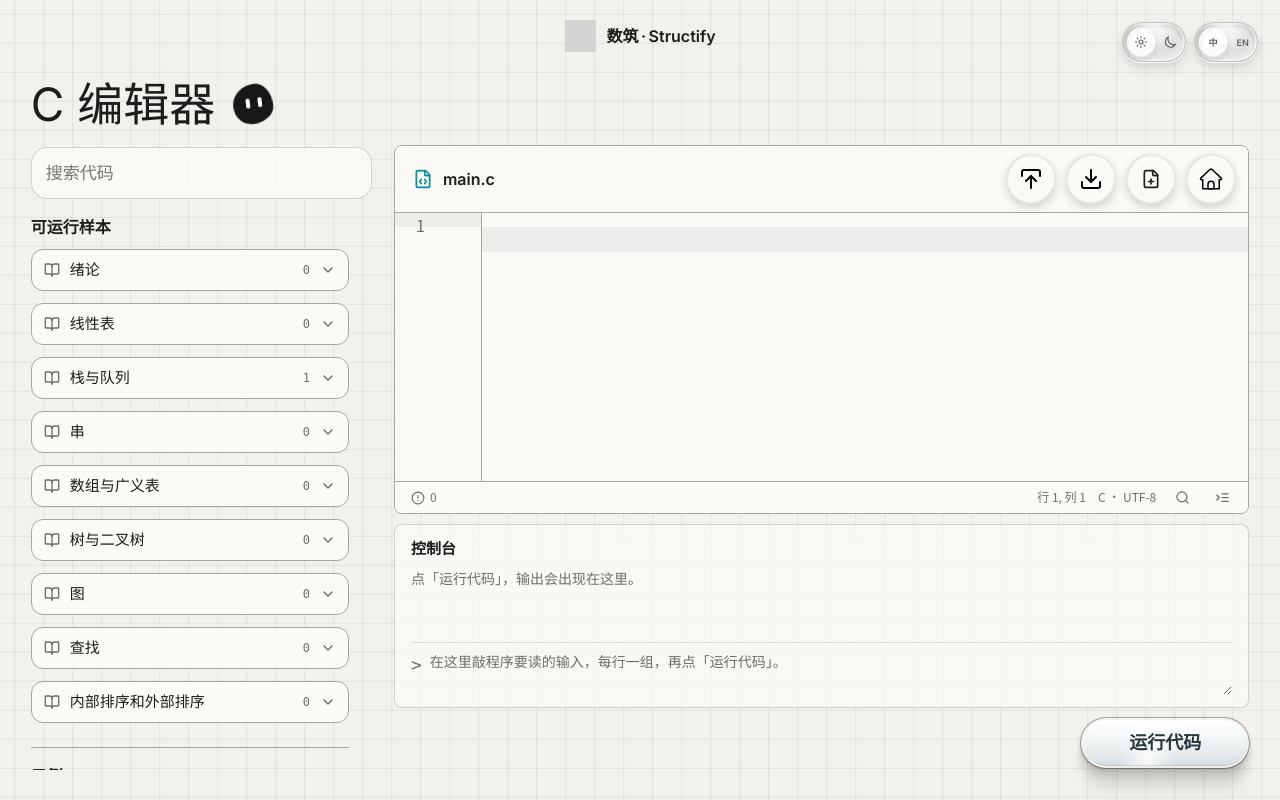
Scenario: code library page › loads a manually selected runnable sample and runs it
Click the button "栈与队列 1".
click(100, 378)  # box [31,357,349,399]
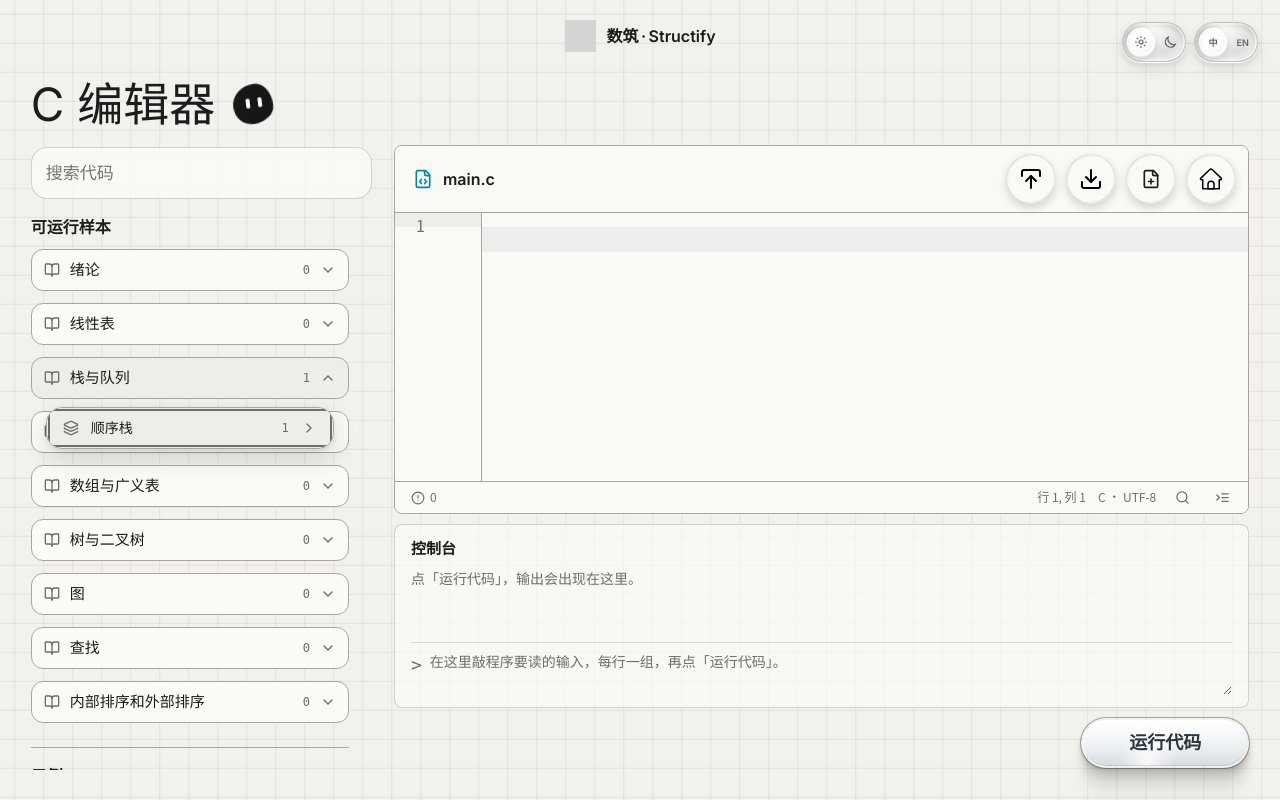
Click the menu item with class "code-menu__item".
click(112, 428)  # box [47,408,333,448]
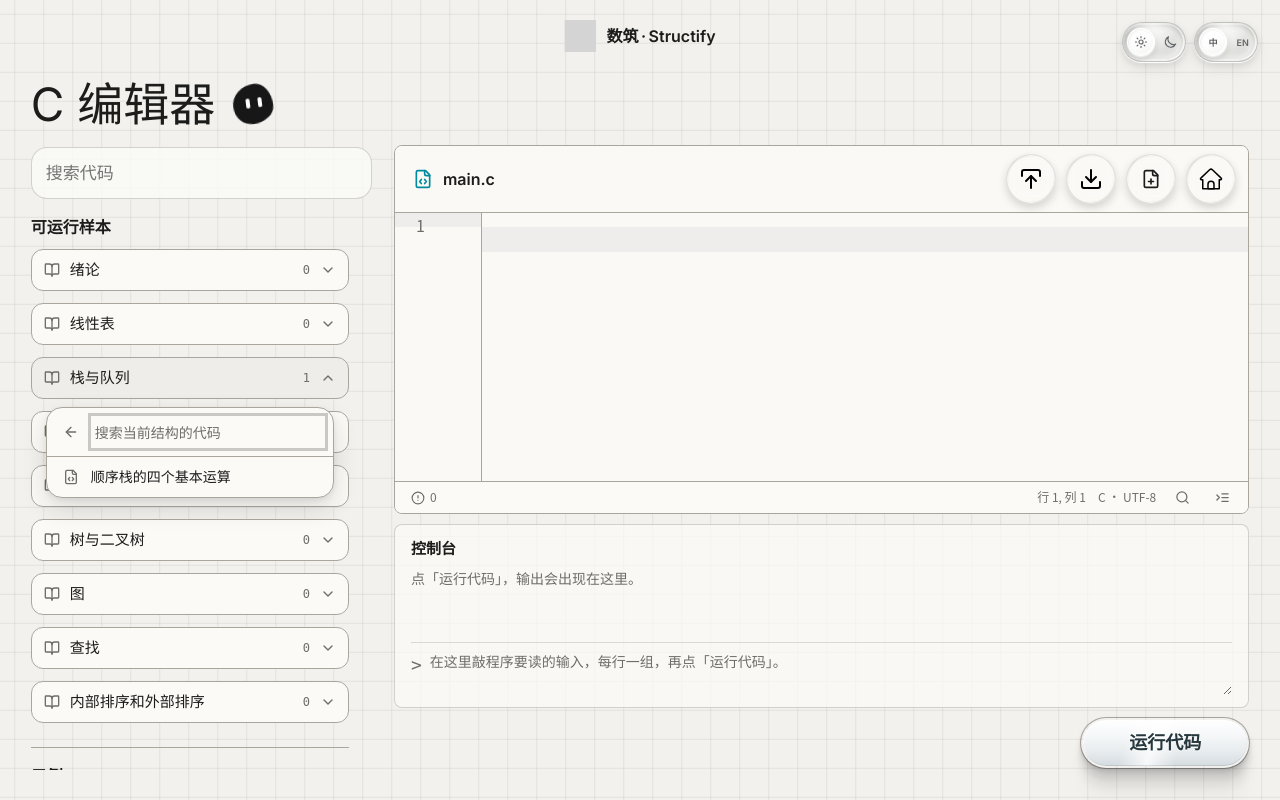
Click the menu item "顺序栈的四个基本运算".
click(190, 477)  # box [47,457,333,497]
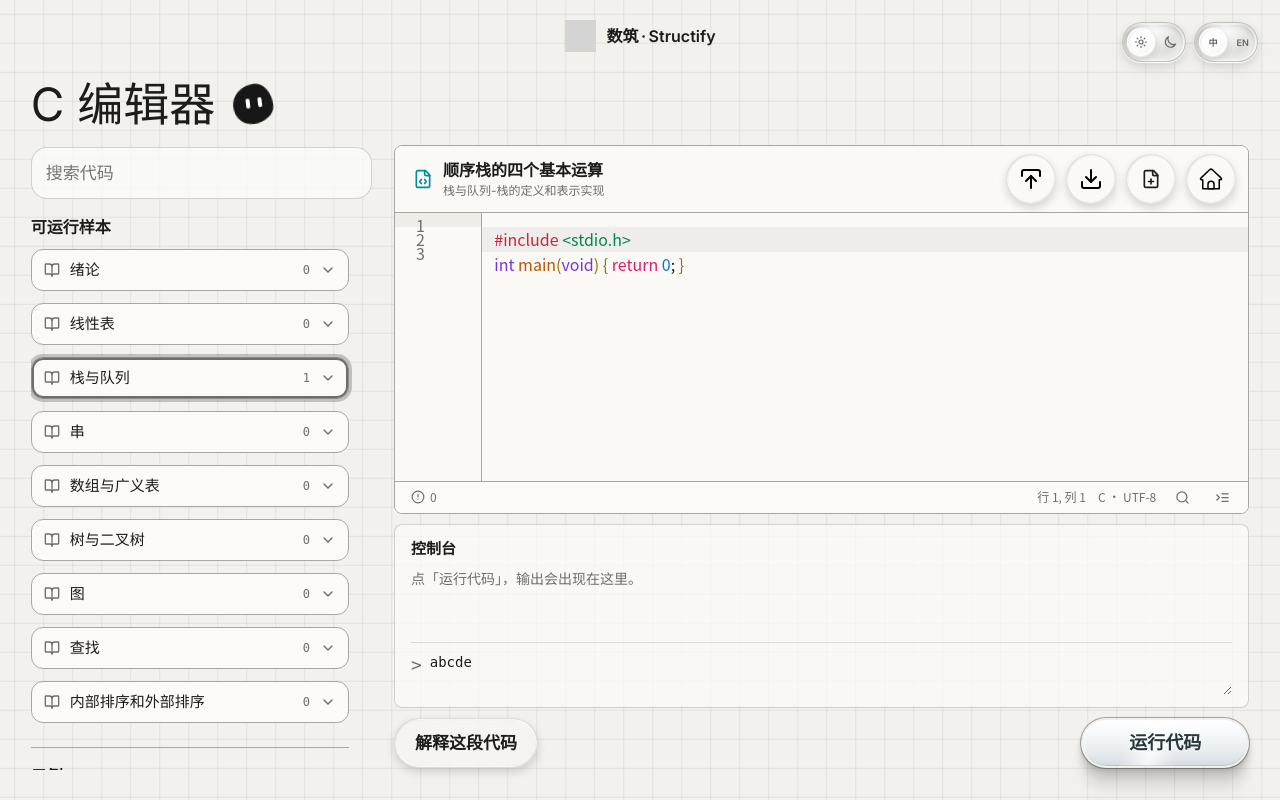
Click the button named "运行代码".
click(1165, 743)  # box [1081,718,1249,768]
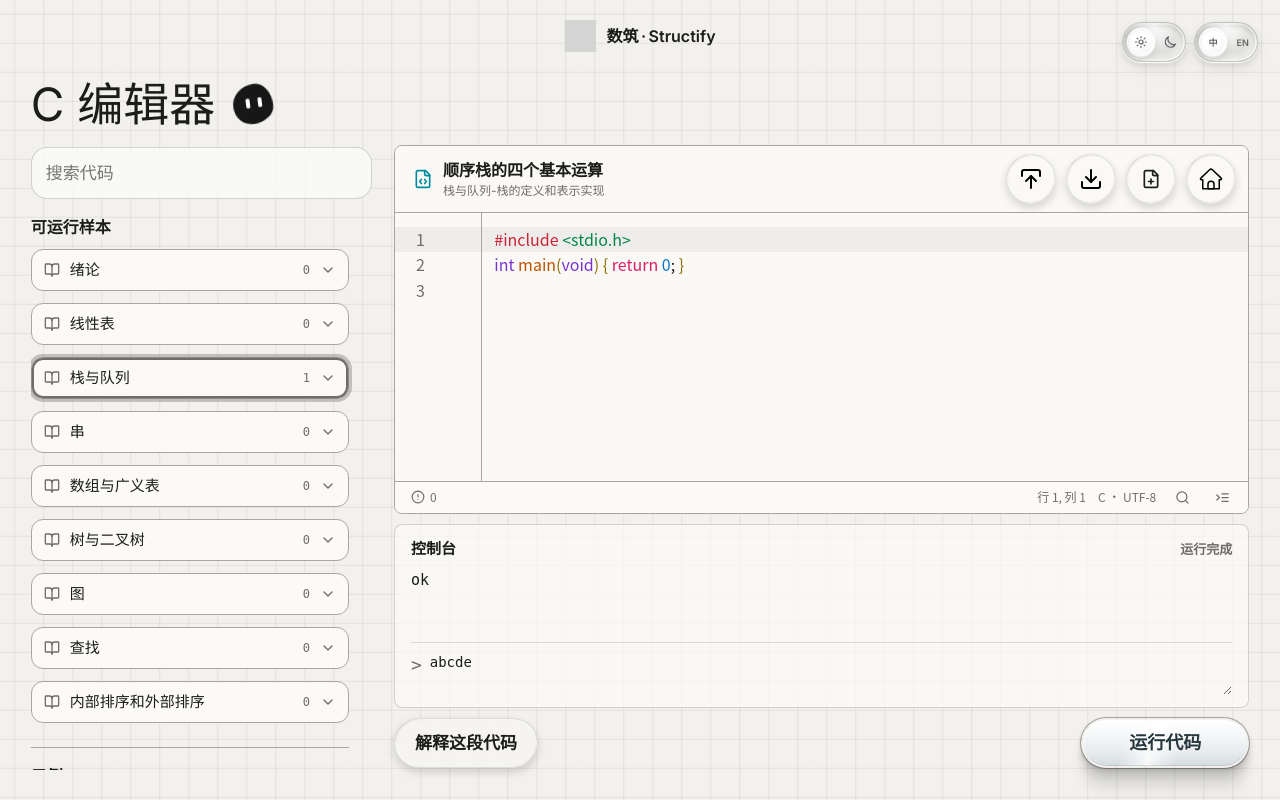
Result: the text "运行完成" is shown at [1180,539,1232,559]
